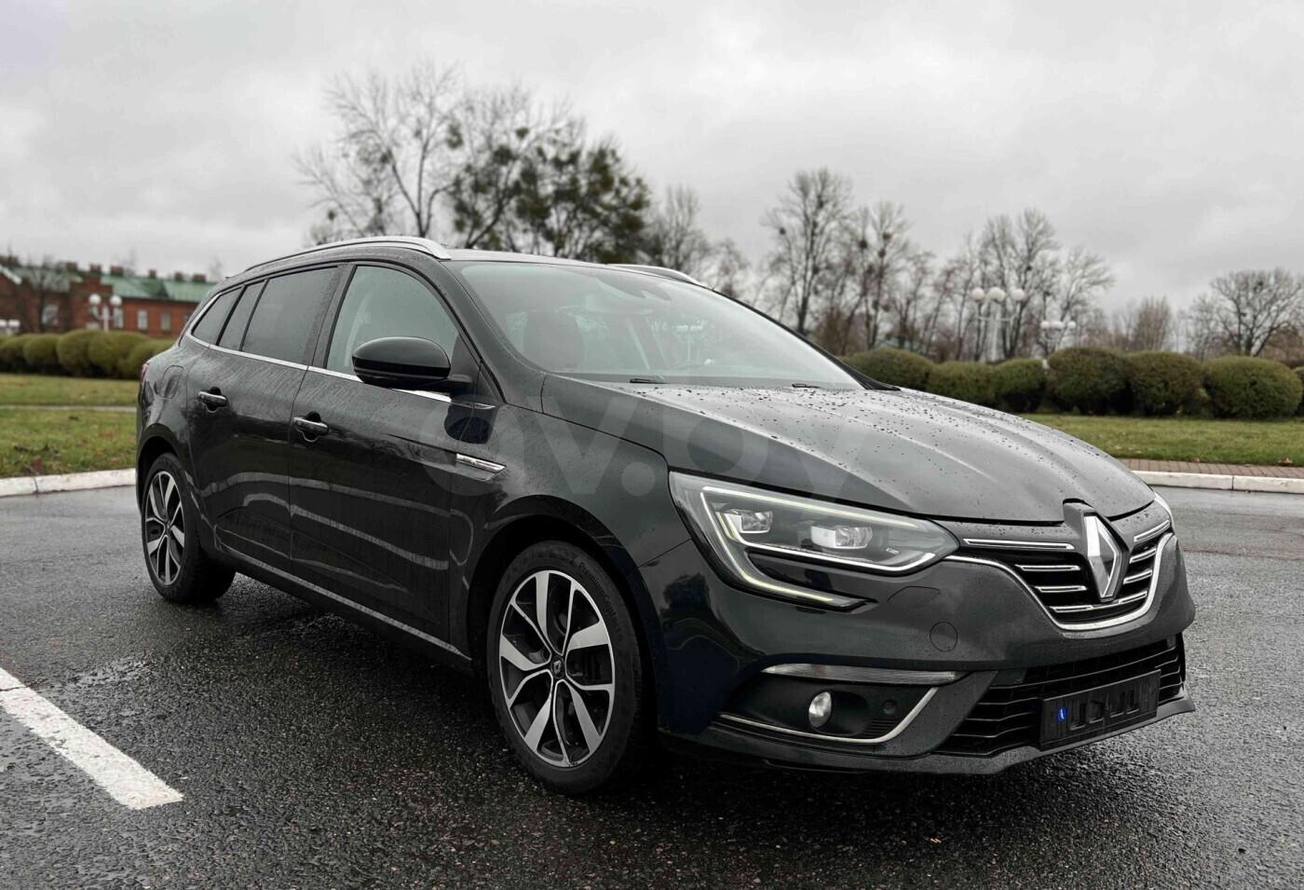Megane_2016-2020: (123, 241, 1206, 792)
